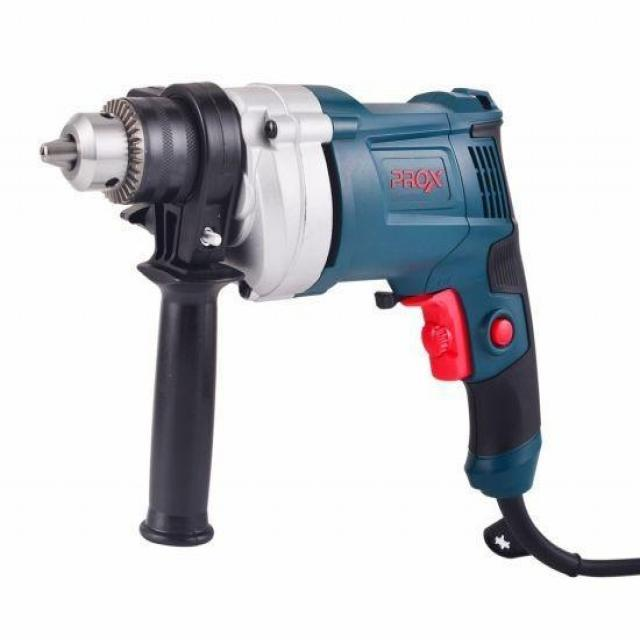drill: (38, 81, 581, 579)
